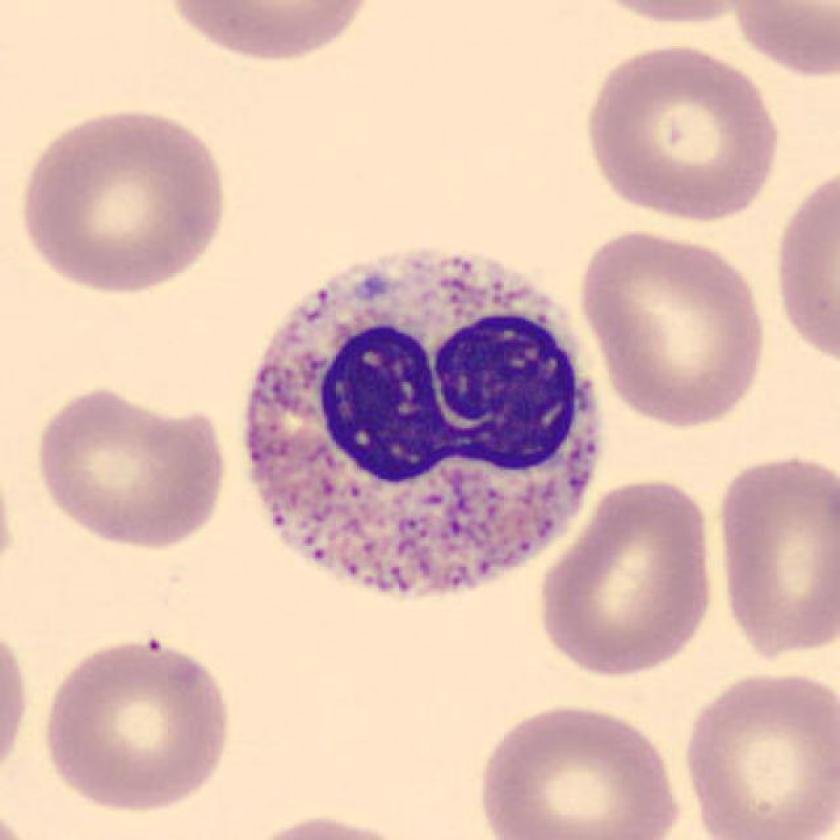neutrophil: (245, 254, 601, 597)
